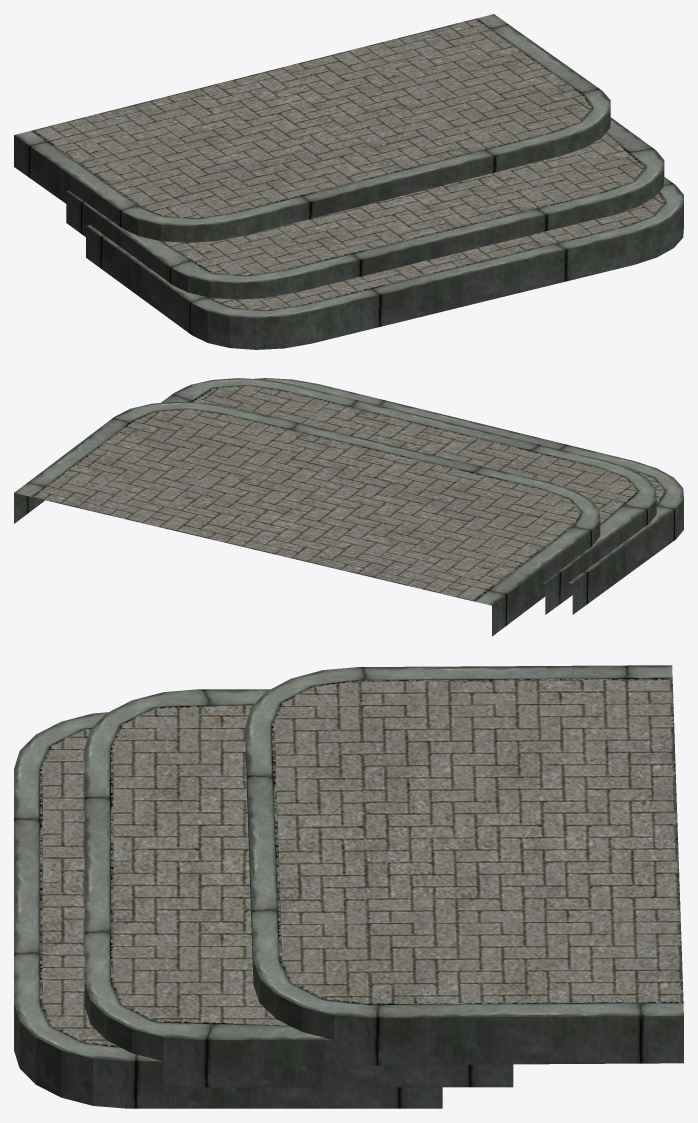
Rendered from Steps_Entrance_COMBO.fbx.
3 views of the same model, one above another, from view 1: azimuth 30°, elevation 25°; view 2: azimuth 150°, elevation 25°; view 3: azimuth 270°, elevation 25° (orthographic). The views are drawn at different scales.
Visible parts, largest first — view 1: VP_park_pavement_block; view 2: VP_park_pavement_block; view 3: VP_park_pavement_block.
Boxes of the visible parts, box(x1,y1,x2,y2) form: VP_park_pavement_block: box(14, 14, 683, 349); VP_park_pavement_block: box(14, 378, 683, 636); VP_park_pavement_block: box(14, 665, 683, 1108).
Size of the model in its own units: 5.76 by 0.7267 by 4.57.
